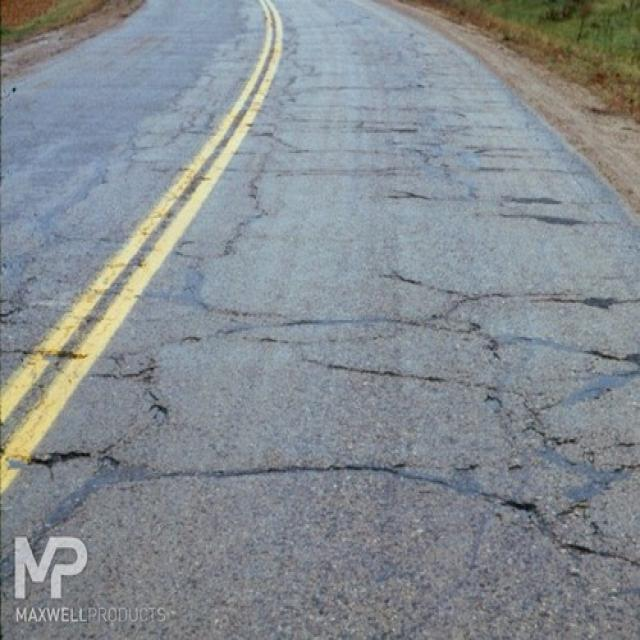Drain Hole: (152, 24, 640, 574)
